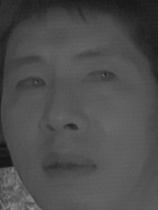eye: (80, 66, 119, 88), (11, 74, 49, 95)
mouth: (37, 147, 99, 183)
